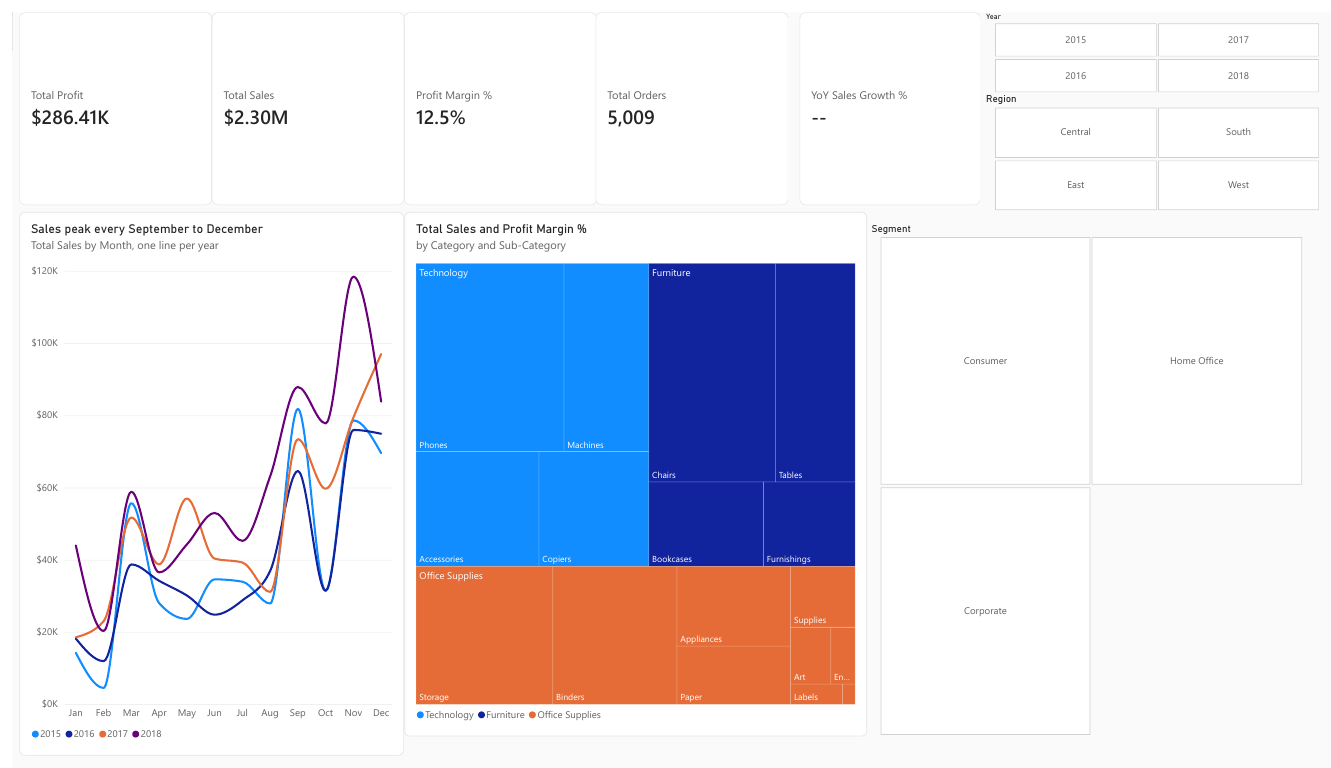

What the dashboard file says about the page in this screenshot:
{"tool":"powerbi","page":{"name":"Executive Overview","canvas":[1920,1080],"ordinal":0},"visuals":[{"type":"cardVisual","fields":{"Data":["fact_orders.Total Profit"]},"box":[10,0,280,280],"z":0},{"type":"cardVisual","fields":{"Data":["fact_orders.Total Sales"]},"box":[289.8,0,280,280],"z":1},{"type":"cardVisual","fields":{"Data":["fact_orders.Profit Margin %"]},"box":[569.4,0,280,280],"z":2},{"type":"cardVisual","fields":{"Data":["fact_orders.Total Orders (Display)"]},"box":[849.1,0,280,280],"z":3},{"type":"lineChart","title":"Sales peak every September to December","fields":{"Category":["dim_date.Month"],"Series":["dim_date.Year"],"Y":["fact_orders.Total Sales"]},"box":[10.1,289.8,559.4,791.2],"z":5},{"type":"treemap","fields":{"Details":["dim_product.Sub-Category"],"Group":["dim_product.Category"],"Values":["fact_orders.Total Sales"]},"box":[569.4,289.8,672.8,763.5],"z":6},{"type":"slicer","fields":{"Values":["dim_date.Year"]},"box":[1408.5,0,511.5,118.4],"z":7},{"type":"slicer","fields":{"Values":["fact_orders.Region"]},"box":[1408.5,118.4,511.5,171.3],"z":8},{"type":"slicer","fields":{"Values":["dim_customer.Segment"]},"box":[1242.2,307.4,652.6,745.8],"z":9},{"type":"cardVisual","fields":{"Data":["fact_orders.YoY Sales Growth %"]},"box":[1145,0,263.3,280],"z":10}]}

Visuals, with their boxes in screenshot pixels (x1, y1, x2, y2), scaled from the page's 1920x1080 canvas onto the 1331x768 screenshot:
cardVisual - fact_orders.Total Profit: 7:0:201:199
cardVisual - fact_orders.Total Sales: 201:0:395:199
cardVisual - fact_orders.Profit Margin %: 395:0:589:199
cardVisual - fact_orders.Total Orders (Display): 589:0:783:199
"Sales peak every September to December" lineChart: 7:206:395:767
treemap - dim_product.Sub-Category x dim_product.Category: 395:206:861:749
slicer - dim_date.Year: 976:0:1330:84
slicer - fact_orders.Region: 976:84:1330:206
slicer - dim_customer.Segment: 861:219:1314:749
cardVisual - fact_orders.YoY Sales Growth %: 794:0:976:199
